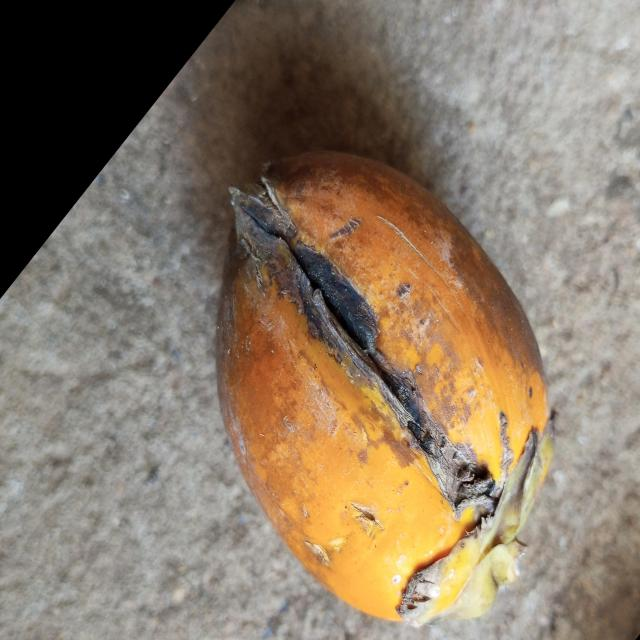damaged: (216, 152, 553, 625)
